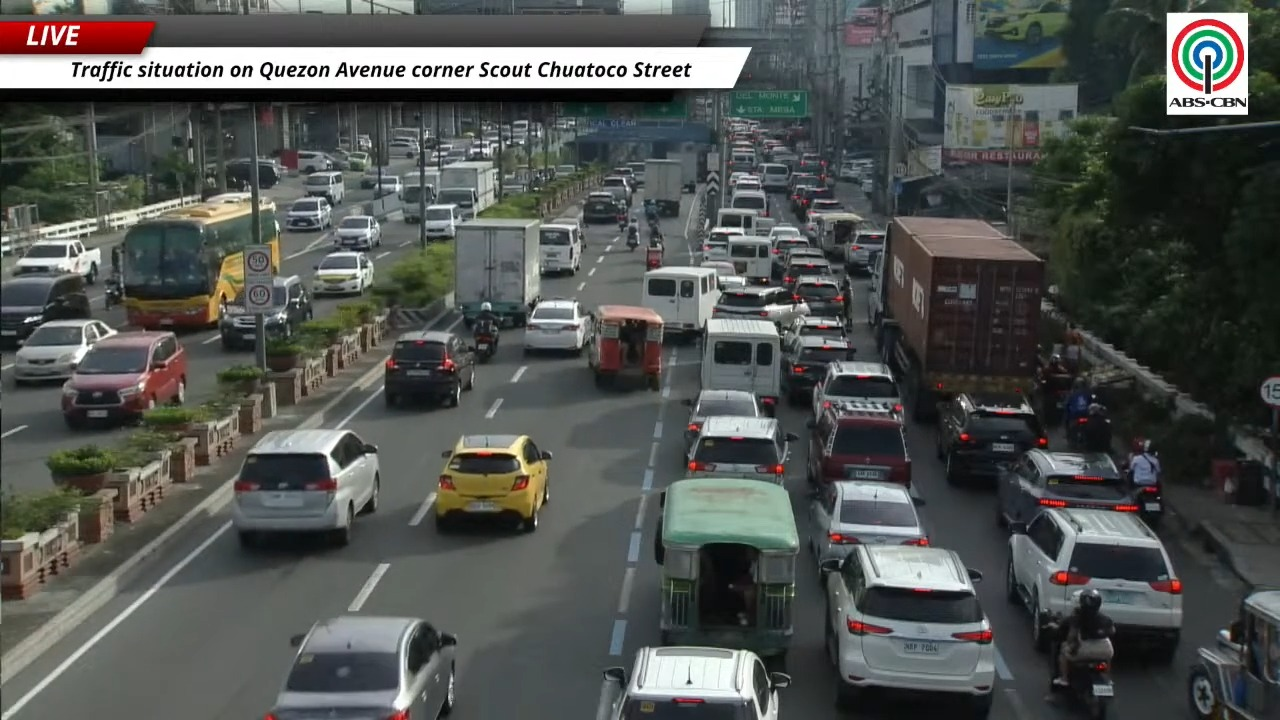bus: (121, 199, 254, 328)
car: (822, 545, 995, 719), (1006, 508, 1182, 661), (266, 614, 456, 719), (231, 429, 379, 548), (597, 646, 790, 719), (61, 331, 187, 428), (434, 434, 551, 531), (996, 448, 1138, 524), (937, 393, 1048, 483), (808, 482, 928, 565), (806, 402, 911, 486), (686, 416, 798, 484), (384, 330, 474, 406), (13, 319, 115, 384), (0, 273, 90, 346), (781, 335, 854, 405), (813, 361, 902, 416), (683, 389, 763, 446), (983, 0, 1067, 46), (712, 286, 808, 326), (524, 299, 590, 353), (262, 275, 313, 338), (312, 251, 372, 295), (787, 275, 844, 316), (771, 235, 823, 279), (782, 315, 846, 345), (802, 199, 845, 241), (782, 251, 833, 284), (845, 230, 884, 273), (334, 215, 381, 250), (285, 197, 332, 230), (701, 227, 743, 260), (699, 260, 745, 290), (778, 239, 824, 267), (549, 214, 587, 247), (796, 184, 834, 216), (789, 176, 816, 220), (582, 193, 619, 224), (601, 169, 634, 203), (297, 150, 334, 174), (360, 165, 392, 189), (769, 225, 802, 246), (374, 175, 403, 198), (388, 138, 420, 158), (788, 172, 817, 194), (734, 176, 763, 192), (346, 151, 369, 171), (838, 161, 860, 181), (861, 178, 873, 196)
motorcycle: (1049, 659, 1114, 719), (1121, 458, 1163, 528), (1134, 481, 1163, 527), (473, 327, 497, 362), (104, 276, 122, 309), (626, 226, 639, 250), (647, 218, 660, 234), (619, 215, 628, 231)
truck: (870, 217, 1044, 421), (455, 218, 540, 326), (13, 239, 102, 284), (437, 161, 500, 219), (644, 159, 682, 216), (401, 169, 439, 222), (668, 150, 699, 193)
